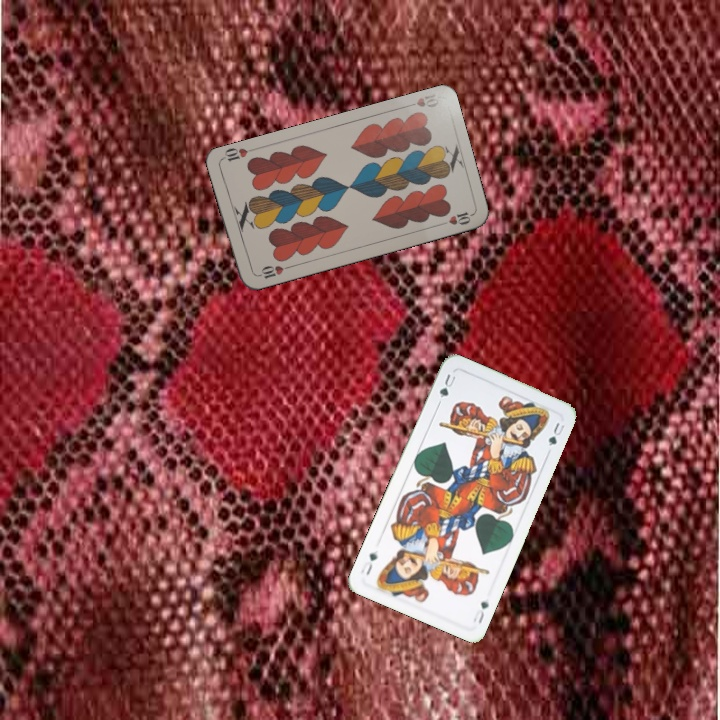GU: (435, 370, 458, 400), (469, 597, 491, 626)
H10: (253, 261, 293, 281), (401, 90, 441, 110)
